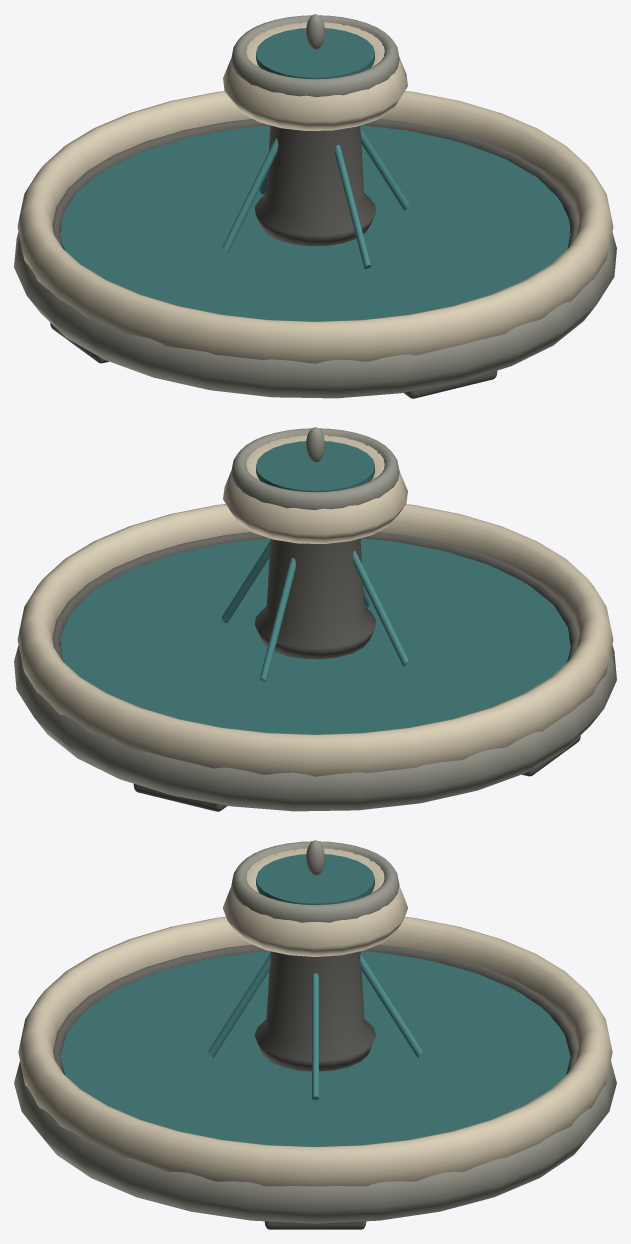
The model's file is detail_fountain.glb.
3 views of the same model, one above another, from view 1: azimuth 30°, elevation 25°; view 2: azimuth 150°, elevation 25°; view 3: azimuth 270°, elevation 25° (orthographic).
Visible parts, largest first — view 1: object 4, wood, stone, object 5, cloth; view 2: object 4, wood, stone, object 5, cloth; view 3: object 4, wood, stone, object 5, cloth.
Boxes of the visible parts, <box> form: object 4: <box>60,125,570,321</box>; wood: <box>17,22,613,363</box>; stone: <box>14,14,616,398</box>; object 5: <box>256,28,374,78</box>; cloth: <box>222,128,408,268</box>; object 4: <box>60,538,570,734</box>; wood: <box>17,435,613,776</box>; stone: <box>14,427,616,811</box>; object 5: <box>256,441,374,491</box>; cloth: <box>222,541,408,681</box>; object 4: <box>60,951,570,1146</box>; wood: <box>18,848,612,1186</box>; stone: <box>14,840,616,1229</box>; object 5: <box>256,854,374,904</box>; cloth: <box>208,954,422,1099</box>.
Size of the model in its own units: 4.4 by 2.2 by 4.4.
